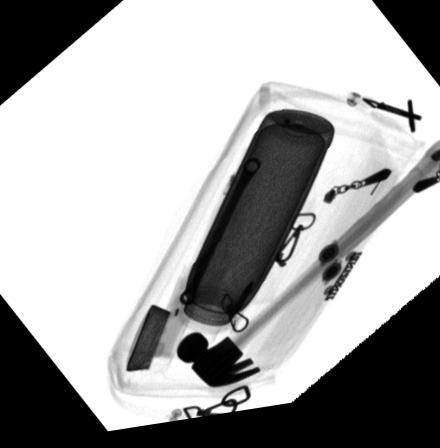Hammer: (177, 150, 440, 394)
Wrench: (179, 165, 262, 312)
